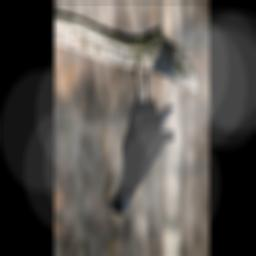Crow: (105, 58, 176, 220)
